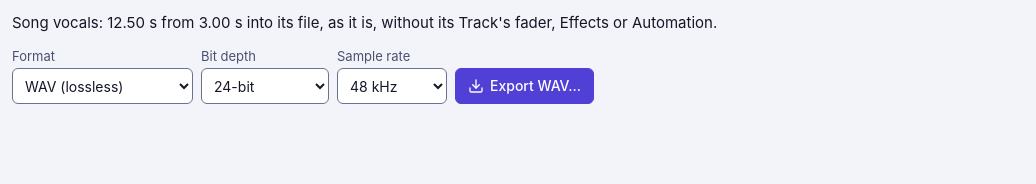
it: a failed export says why
Click the button "Export WAV…". click: (524, 86)
box: [455, 68, 594, 104]
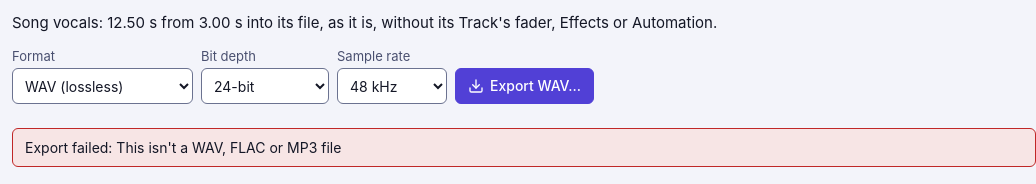
Now the message reads "Export failed: This isn't a WAV, FLAC or MP3 file", box [12, 128, 1035, 167]
